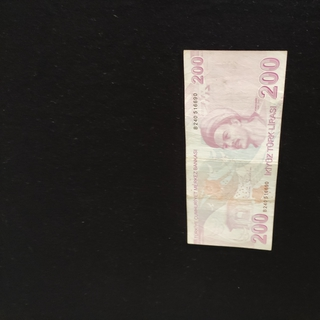200TLBack: (182, 49, 288, 250)
